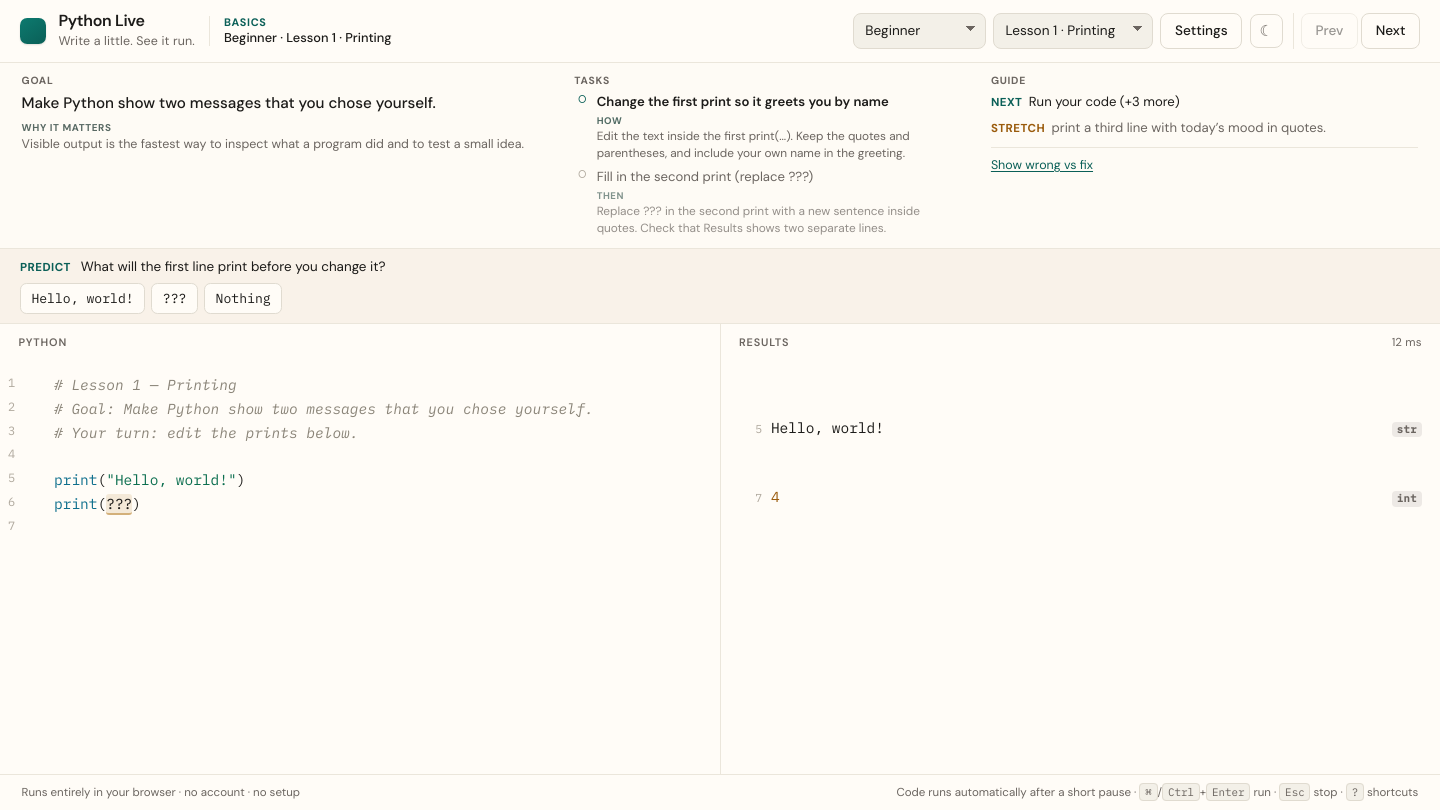
Test: App beginner flow › moves between lessons with Prev and Next
The image size is (1440, 810).
Expected: the dropdown named "choose a lesson" shows "Lesson 1 · Printing", [993,13,1153,48]
Expected: the button with aria-label "previous lesson" is disabled, [1301,13,1358,48]
Click the button with aria-label "next lesson".
click(1391, 31)  # box [1361,13,1420,48]
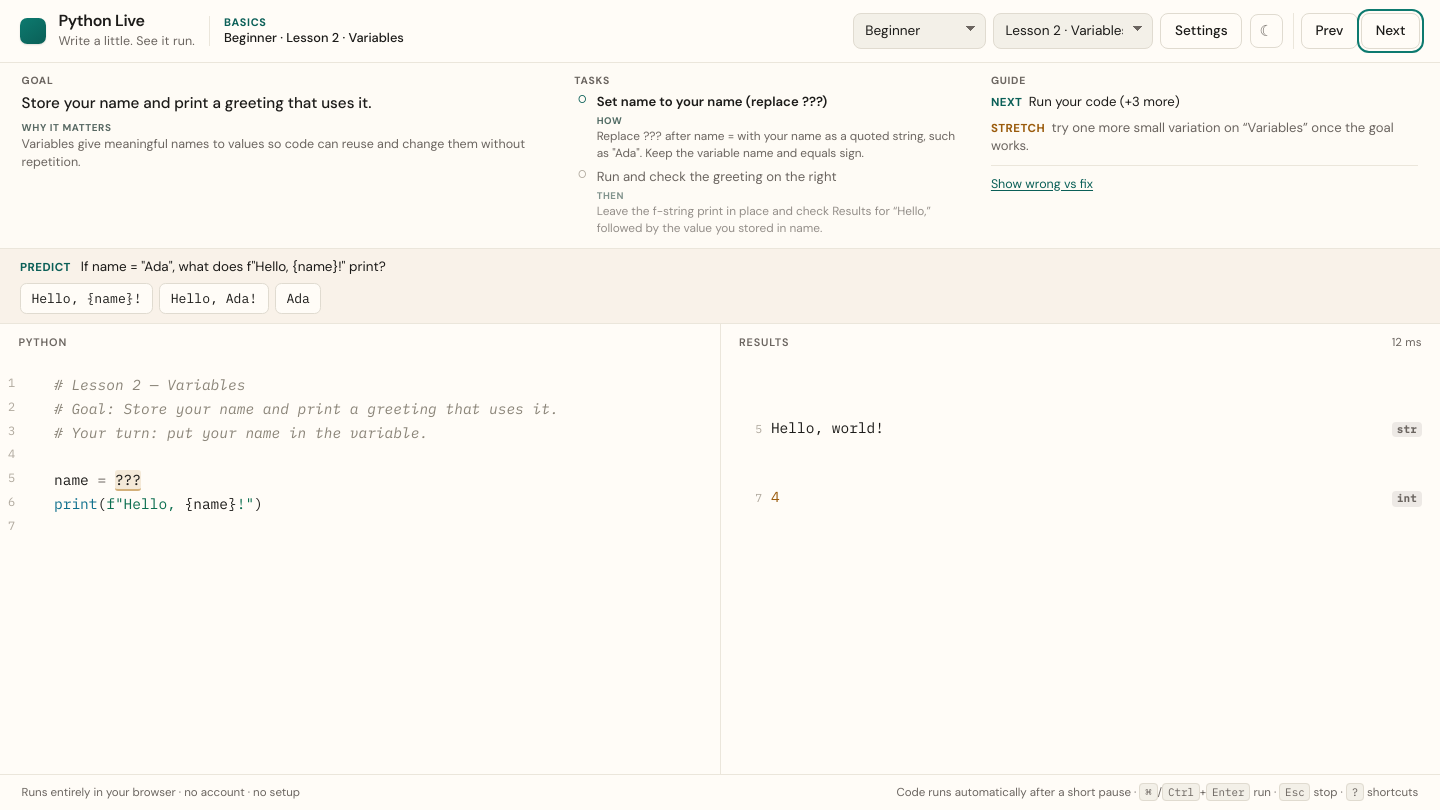
Expected: the element named "current lesson" shows "Lesson 2", [224,29,404,46]
Expected: the button with aria-label "previous lesson" is enabled
Click the button with aria-label "previous lesson".
click(1329, 31)  # box [1301,13,1358,48]
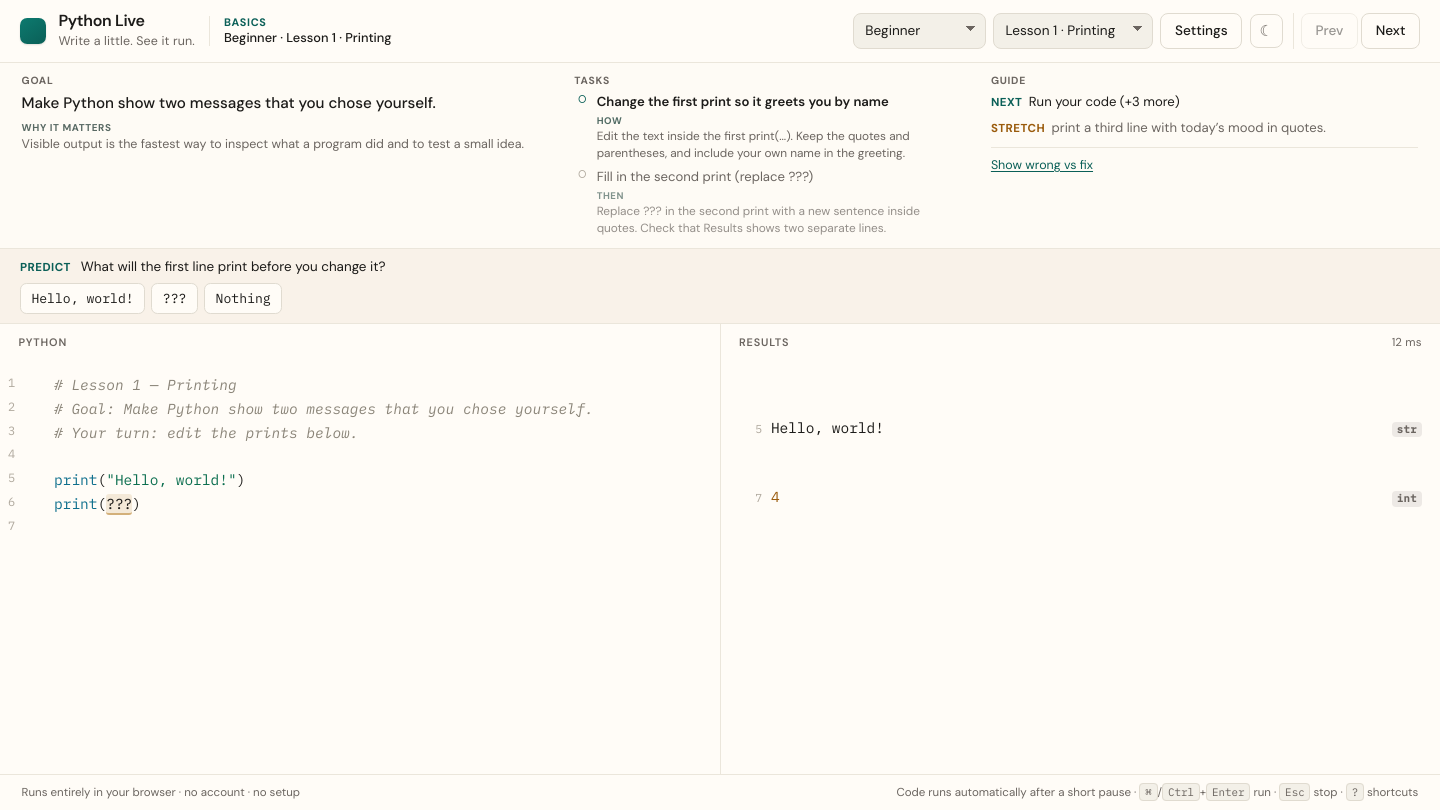
Expected: the dropdown named "choose a lesson" shows "Lesson 1 · Printing", [993,13,1153,48]
